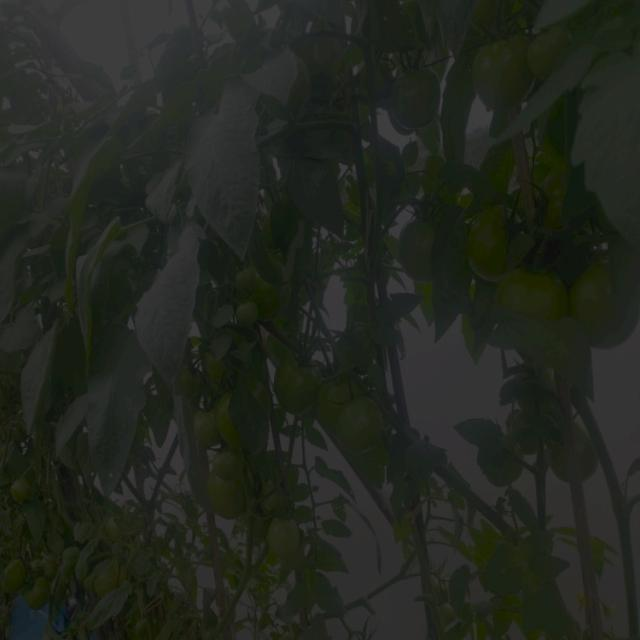tomato: (496, 261, 579, 322), (474, 28, 535, 108), (474, 202, 519, 285), (384, 61, 440, 124), (332, 394, 388, 457), (578, 263, 619, 331), (274, 357, 318, 405), (401, 219, 437, 275), (556, 437, 600, 482), (203, 476, 249, 518), (527, 22, 566, 69), (539, 173, 569, 227), (269, 512, 305, 554), (215, 394, 238, 442), (231, 263, 257, 295), (10, 474, 33, 505), (209, 444, 234, 471), (237, 297, 258, 327), (5, 562, 24, 595), (97, 568, 123, 591), (199, 405, 217, 438), (30, 580, 52, 607)
